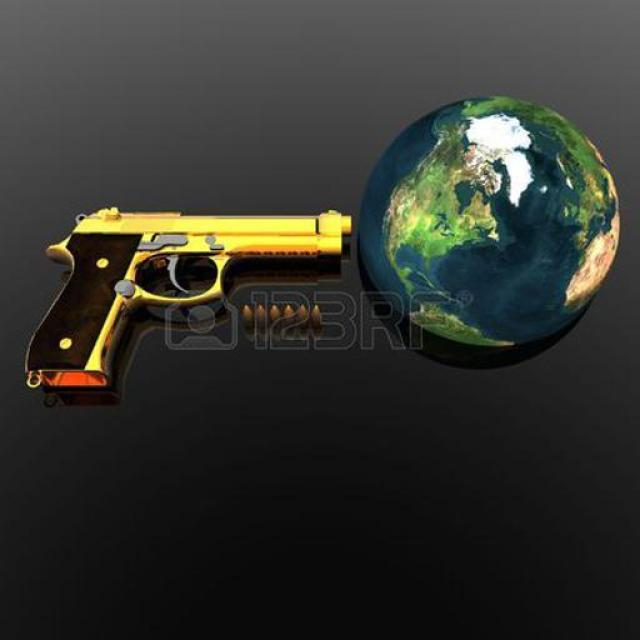pistol: (24, 180, 349, 394)
